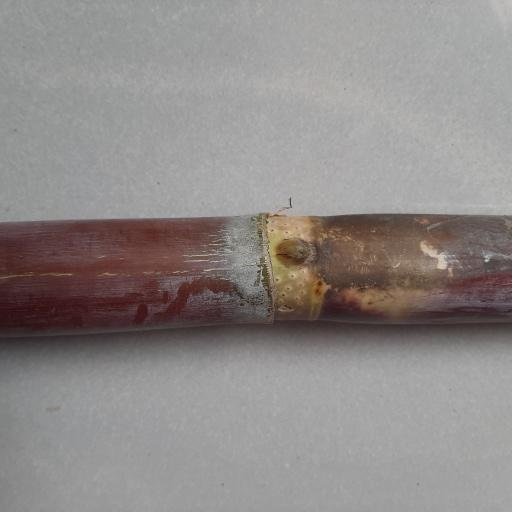Bud: (275, 238, 311, 268)
